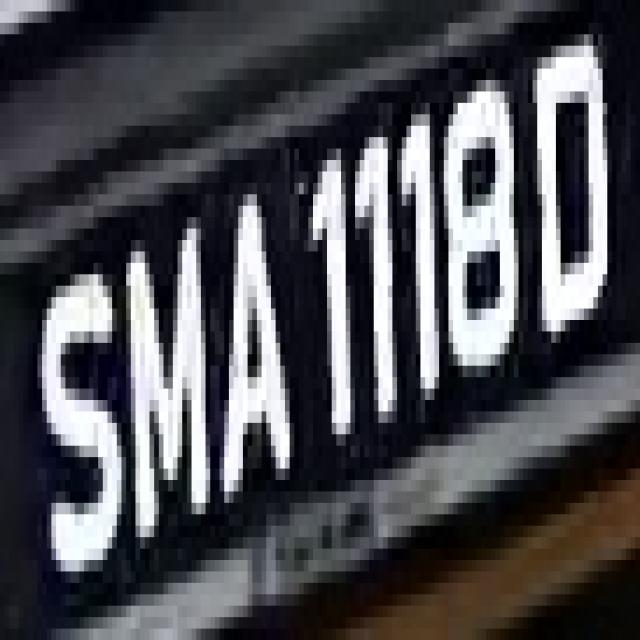1: (392, 80, 448, 457), (350, 91, 402, 468), (304, 114, 355, 480)
8: (444, 57, 528, 423)
A: (196, 194, 290, 537)
D: (524, 12, 622, 377)
M: (112, 194, 206, 549)
S: (28, 263, 117, 594)
